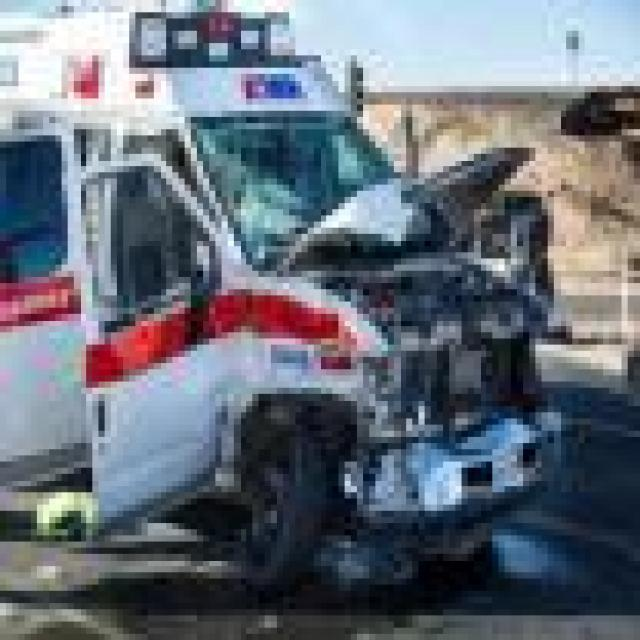emergency-vehicle: (0, 10, 566, 612)
